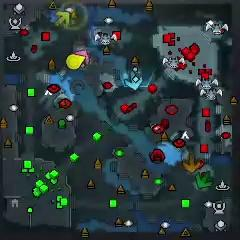p4: (66, 53, 85, 70)
x1: (74, 50, 90, 68)
x2: (53, 10, 71, 27)
x3: (125, 72, 144, 91)
x4: (195, 171, 213, 189)
x5: (183, 152, 202, 172)
